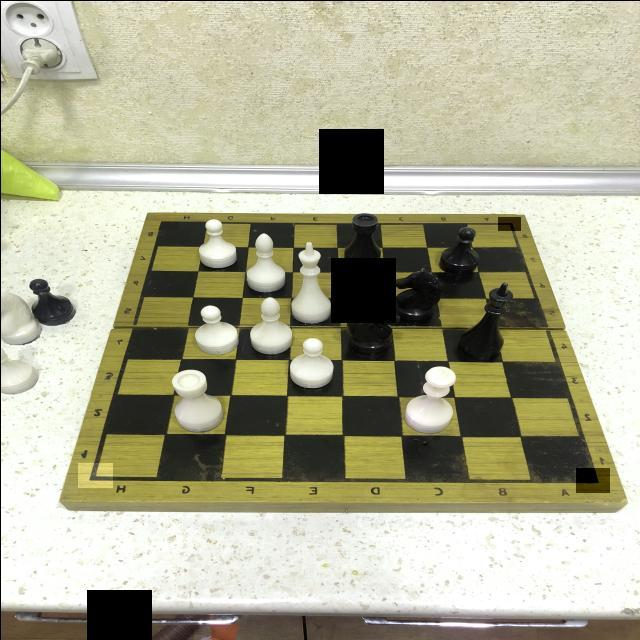chess-table-corners: (77, 462, 112, 487), (575, 467, 609, 492), (152, 213, 177, 229), (497, 216, 520, 230)
